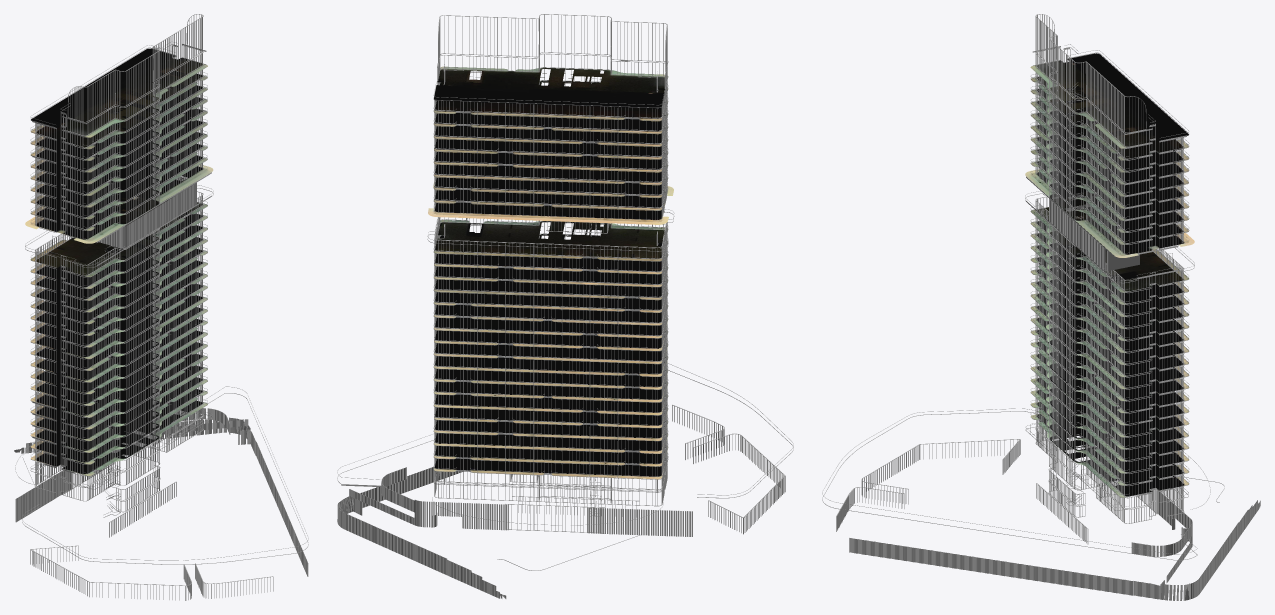
The model's file is Velos_build_3.glb.
3 renders of one model, left to right at view 1: azimuth 30°, elevation 25°; view 2: azimuth 150°, elevation 25°; view 3: azimuth 270°, elevation 25°, orthographic. The views are drawn at different scales.
Parts seen in each view (by area): view 1: Velos_build.003; view 2: Velos_build.003; view 3: Velos_build.003.
Boxes of the visible parts, x1,y1,x2,y2 form: Velos_build.003: [14, 14, 308, 600]; Velos_build.003: [337, 14, 793, 598]; Velos_build.003: [822, 14, 1260, 600].
Size of the model in its own units: 128 by 188 by 158.
2 materials, 1 textured.
